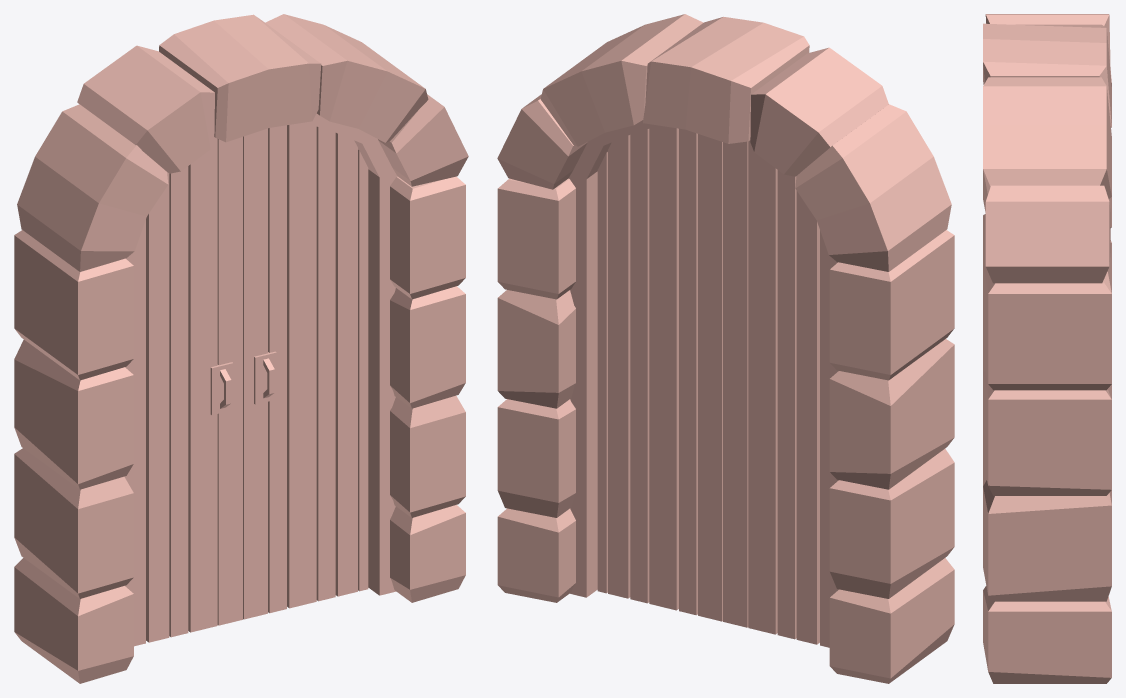
The model's file is Mega_Asset_s_Pack_Cube_361.FBX.
The picture shows the model from 3 angles, left to right: view 1: azimuth 30°, elevation 25°; view 2: azimuth 150°, elevation 25°; view 3: azimuth 270°, elevation 25°; orthographic projection. The views are drawn at different scales.
Visible parts, largest first — view 1: Mega_Asset_s_Pack_Cube_361; view 2: Mega_Asset_s_Pack_Cube_361; view 3: Mega_Asset_s_Pack_Cube_361.
Boxes of the visible parts, x1,y1,x2,y2 form: Mega_Asset_s_Pack_Cube_361: (14,14,468,683); Mega_Asset_s_Pack_Cube_361: (497,14,954,683); Mega_Asset_s_Pack_Cube_361: (983,14,1111,683).
Size of what is drawn, in the model's own units: 334 by 98.21 by 467.
